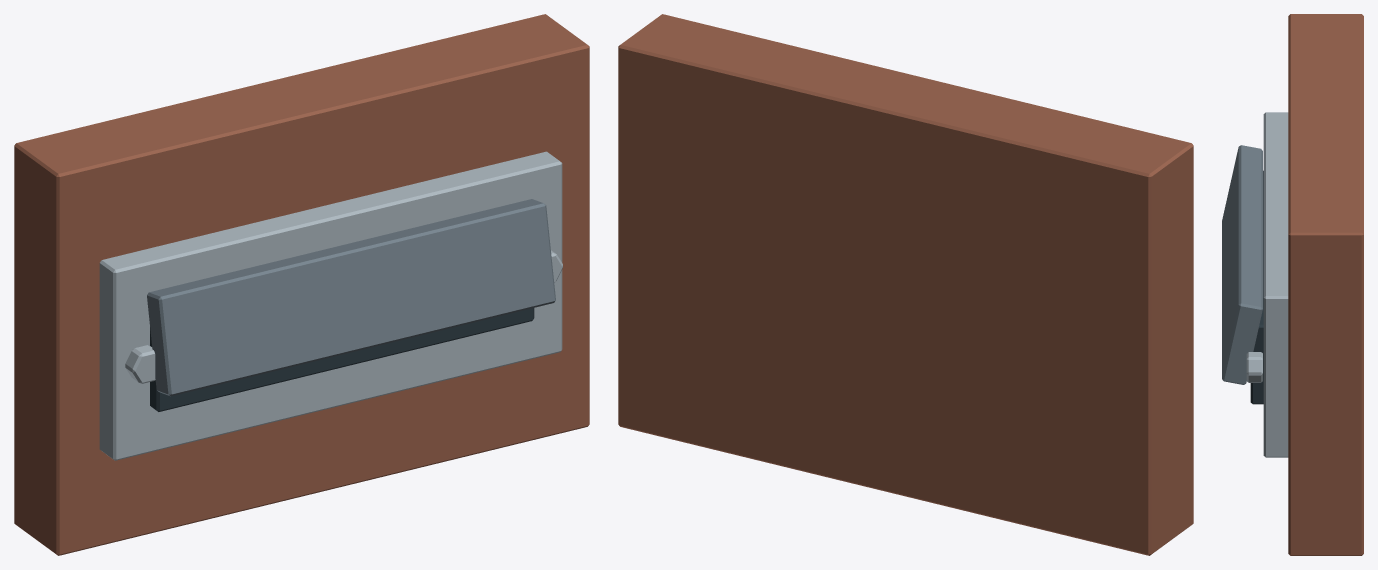
File: b14_building_mail_slot.glb
The picture shows the model from 3 angles, left to right: view 1: azimuth 30°, elevation 25°; view 2: azimuth 150°, elevation 25°; view 3: azimuth 270°, elevation 25°; orthographic projection. The views are drawn at different scales.
Visible parts, largest first — view 1: b14_building_mail_slot; view 2: b14_building_mail_slot; view 3: b14_building_mail_slot.
Part boxes in pixels (left/top/right/bottom): b14_building_mail_slot: left=14, top=14, right=589, bottom=555; b14_building_mail_slot: left=618, top=14, right=1193, bottom=555; b14_building_mail_slot: left=1222, top=14, right=1363, bottom=555.
Bounding box in the file's own units: 0.38 × 0.26 × 0.1034.
